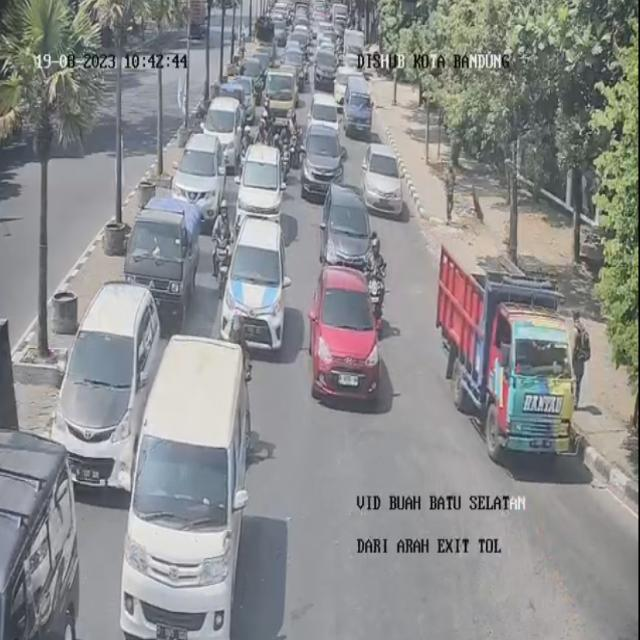cars: (125, 336, 258, 640), (55, 278, 158, 486), (0, 423, 82, 635), (314, 264, 383, 401), (128, 196, 200, 319), (226, 215, 288, 349), (324, 182, 372, 281), (238, 143, 284, 239), (179, 132, 224, 225), (361, 140, 404, 220), (303, 117, 342, 197), (207, 94, 240, 165), (344, 71, 374, 136), (268, 62, 297, 120), (220, 79, 252, 122), (314, 42, 335, 92), (311, 90, 336, 131), (244, 56, 266, 92), (294, 26, 314, 54), (321, 22, 338, 52)
motorcycle: (364, 232, 386, 320), (212, 202, 235, 286)
truck: (486, 273, 580, 463)
